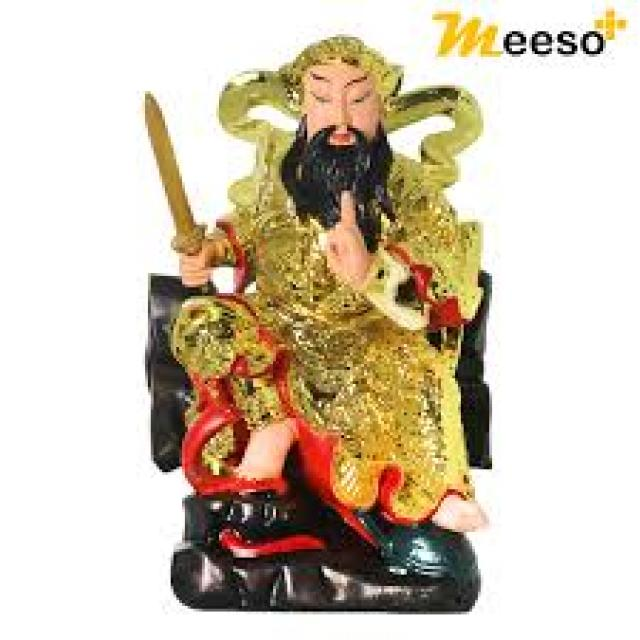Xuan wu: (134, 31, 493, 486)
